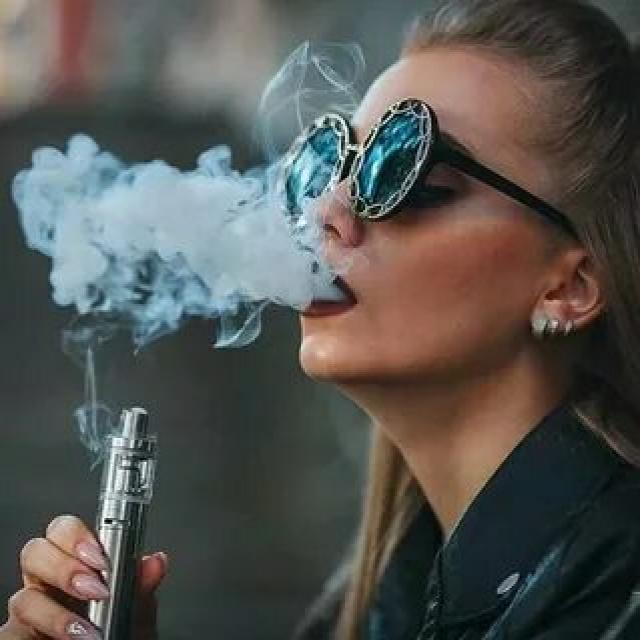cigarette: (64, 400, 165, 640)
